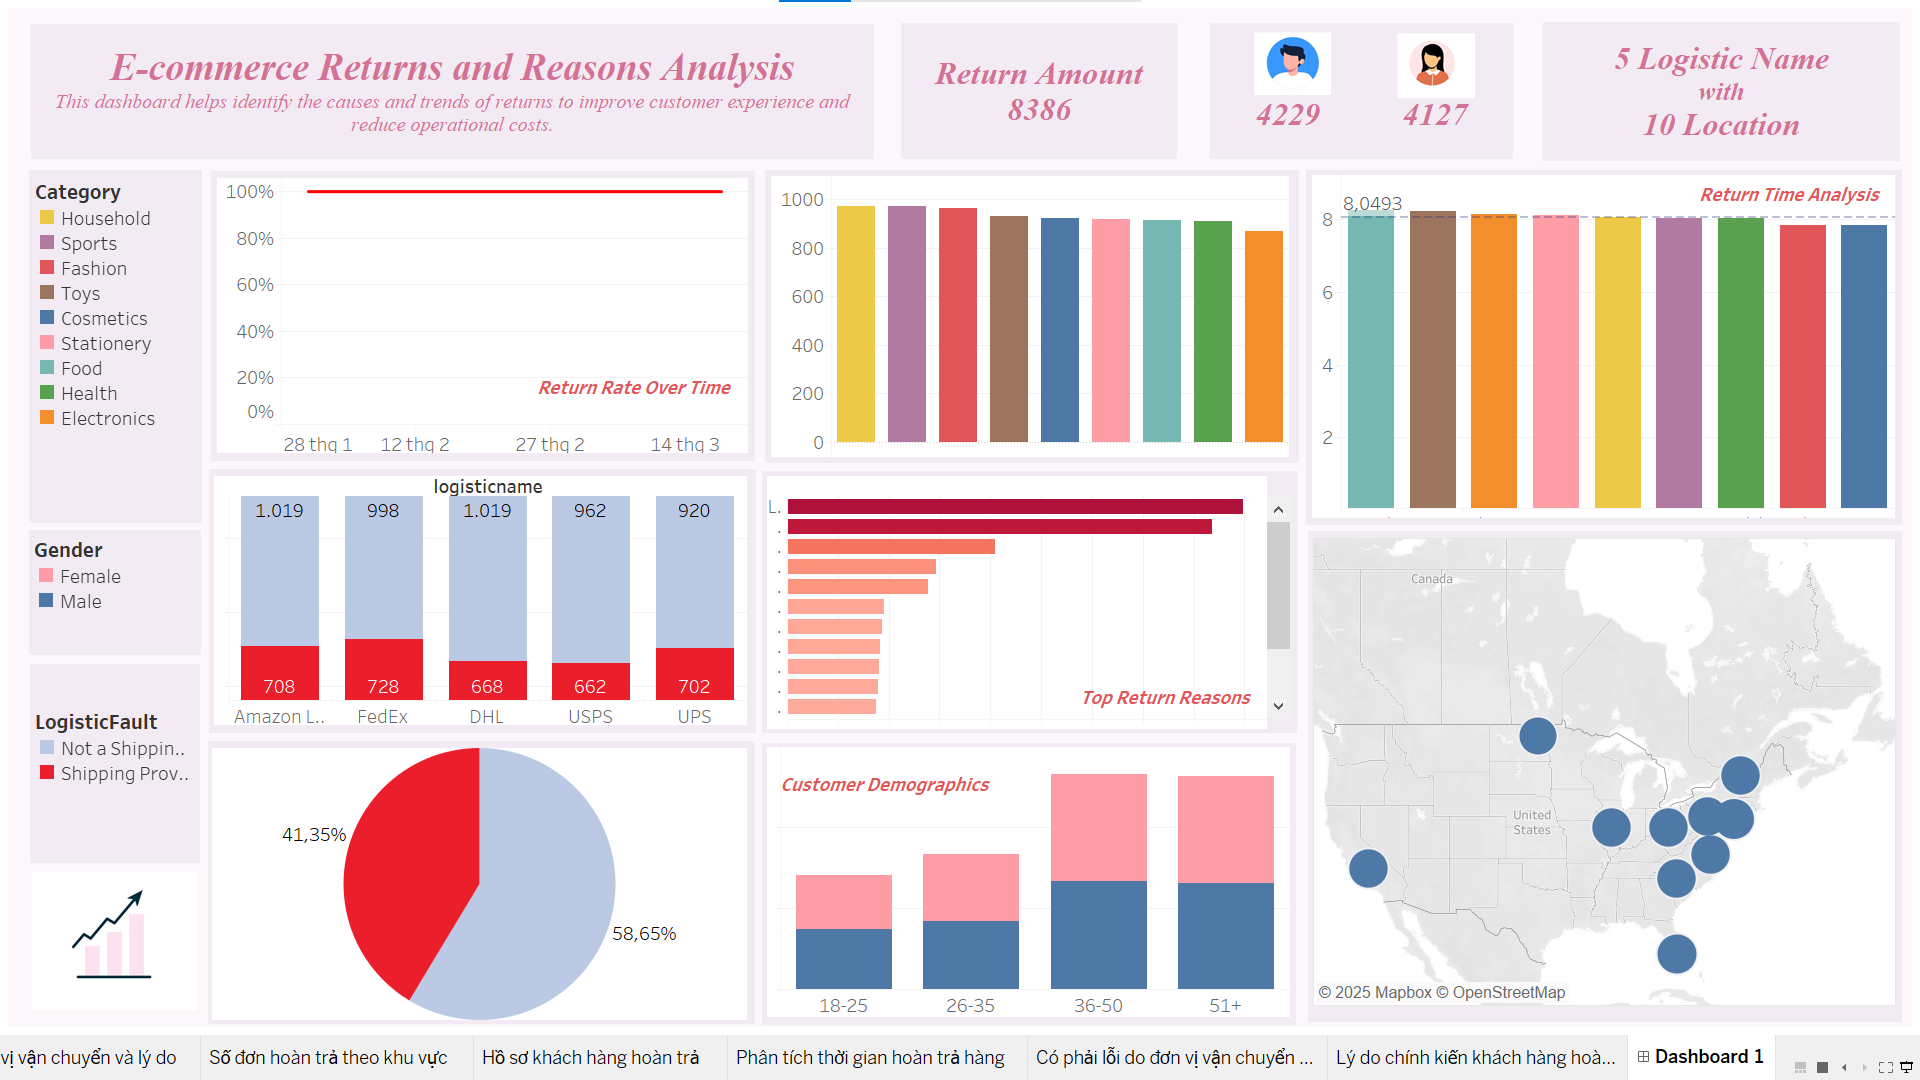

The dashboard page shown, as its layout file describes it:
{"tool":"tableau","page":{"name":"Dashboard 1","canvas":[1000,1000],"units":"permille","ordinal":0},"visuals":[{"type":"text","box":[803.6,20.8,185.8,134.5]},{"type":"text","box":[469.4,22,144,132]},{"type":"text","box":[16.2,23.2,438.9,130.8]},{"type":"text","box":[711.4,26.9,72.9,118.6]},{"type":"text","box":[635.3,28.1,71.1,117.4]},{"type":"image","param":"Image/female.JPG","box":[727.6,29.3,40.5,69.7]},{"type":"image","param":"Image/male.JPG","box":[653.4,30.6,39.9,63.6]},{"type":"worksheet","title":"Phân tích thời gian hoàn trả hàng","mark":"Bar","rows":["Calculation_1341509805582606336"],"cols":["category"],"box":[683.3,168.7,303.6,331.3]},{"type":"worksheet","title":"Danh mục sản phẩm và lý do hoàn trả","mark":"Bar","rows":["fact_returns_71567F06AF5E4EEAA868EE30828DA48B"],"cols":["category"],"box":[401.5,169.9,269.9,271.4]},{"type":"legend","title":"Danh mục sản phẩm và lý do hoàn trả","param":"[federated.141hoea0w9v1gx1bwjcsa194pvkx].[none:category:nk]","box":[18.1,171.2,84.8,325.2]},{"type":"worksheet","title":"Tỷ lệ hoàn trả theo thời gian","mark":"Automatic","rows":["Calculation_321163014896455680"],"cols":["returndate"],"box":[112.8,172.4,276.8,265.3]},{"type":"text","box":[844.8,172.4,139,30.6]},{"type":"text","box":[215.1,349.6,170.2,47.7]},{"type":"worksheet","title":"Đơn vị vận chuyển và lý do","mark":"Automatic","rows":["fact_returns_71567F06AF5E4EEAA868EE30828DA48B"],"cols":["logisticname"],"box":[111.6,459.7,277.4,240.8]},{"type":"worksheet","title":"Lý do chính kiến khách hàng hoàn trả","mark":"Automatic","rows":["returnreason"],"cols":["return_id"],"box":[399.6,459.7,273.1,244.5]},{"type":"legend","title":"Hồ sơ khách hàng hoàn trả ","param":"[federated.141hoea0w9v1gx1bwjcsa194pvkx].[none:gender:nk]","box":[17.5,517.1,87.3,106.4]},{"type":"worksheet","title":"Số đơn hoàn trả theo khu vực","mark":"Automatic","box":[683.9,519.6,303.6,460.9]},{"type":"text","box":[493.8,655.3,162.7,35.5]},{"type":"legend","title":"Đơn vị vận chuyển và lý do","param":"[federated.141hoea0w9v1gx1bwjcsa194pvkx].[none:Calculation_321163014902460422:nk","box":[18.1,683.4,82.9,110]},{"type":"worksheet","title":"Hồ sơ khách hàng hoàn trả ","mark":"Automatic","rows":["fact_returns_71567F06AF5E4EEAA868EE30828DA48B"],"cols":["Calculation_321163014906572807"],"box":[399.6,721.3,272.4,261.6]},{"type":"worksheet","title":"Có phải lỗi do đơn vị vận chuyển hay không?","mark":"Pie","box":[110.4,722.5,278.7,262.8]},{"type":"text","box":[402.1,732.3,139.7,50.1]},{"type":"image","param":"Image/Capture1.JPG","box":[16.2,841.1,86.7,145.5]}]}

Visuals, with their boxes on the dashboard's canvas, which has no fixed pixel size, in thousandths of its width and height (x1, y1, x2, y2). These are canvas units, not pixel positions in the 1920x1080 screenshot, which may show the page scaled, cropped or inside an application window:
text: Rect(804, 21, 989, 155)
text: Rect(469, 22, 613, 154)
text: Rect(16, 23, 455, 154)
text: Rect(711, 27, 784, 146)
text: Rect(635, 28, 706, 146)
image: Rect(728, 29, 768, 99)
image: Rect(653, 31, 693, 94)
"Phân tích thời gian hoàn trả hàng" worksheet (Bar marks): Rect(683, 169, 987, 500)
"Danh mục sản phẩm và lý do hoàn trả" worksheet (Bar marks): Rect(402, 170, 671, 441)
"Danh mục sản phẩm và lý do hoàn trả" legend: Rect(18, 171, 103, 496)
"Tỷ lệ hoàn trả theo thời gian" worksheet: Rect(113, 172, 390, 438)
text: Rect(845, 172, 984, 203)
text: Rect(215, 350, 385, 397)
"Đơn vị vận chuyển và lý do" worksheet: Rect(112, 460, 389, 700)
"Lý do chính kiến khách hàng hoàn trả" worksheet: Rect(400, 460, 673, 704)
"Hồ sơ khách hàng hoàn trả " legend: Rect(18, 517, 105, 624)
"Số đơn hoàn trả theo khu vực" worksheet: Rect(684, 520, 988, 980)
text: Rect(494, 655, 656, 691)
"Đơn vị vận chuyển và lý do" legend: Rect(18, 683, 101, 793)
"Hồ sơ khách hàng hoàn trả " worksheet: Rect(400, 721, 672, 983)
"Có phải lỗi do đơn vị vận chuyển hay không?" worksheet (Pie marks): Rect(110, 722, 389, 985)
text: Rect(402, 732, 542, 782)
image: Rect(16, 841, 103, 987)
